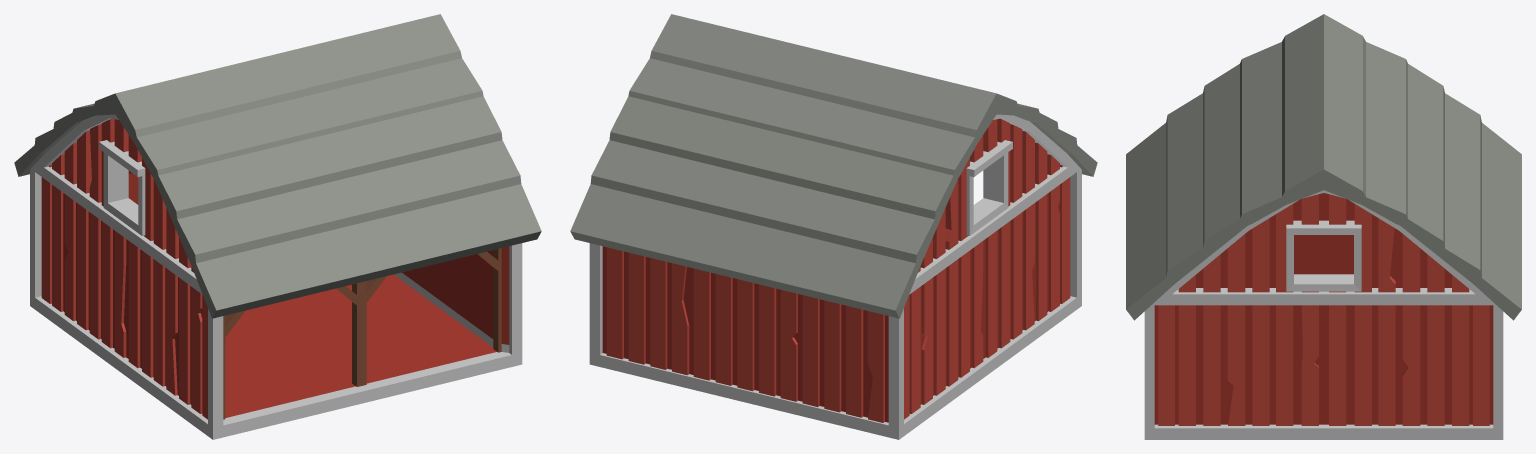
File: open-barn.glb
The picture shows the model from 3 angles, left to right: view 1: azimuth 30°, elevation 25°; view 2: azimuth 150°, elevation 25°; view 3: azimuth 270°, elevation 25°; orthographic projection. The views are drawn at different scales.
Visible parts, largest first — view 1: OpenBarn; view 2: OpenBarn; view 3: OpenBarn.
Part boxes in pixels (x1,y1,x2,y2): OpenBarn: (14,14,541,439); OpenBarn: (570,14,1097,439); OpenBarn: (1126,14,1521,439).
Bounding box in the file's own units: 5.74 × 4.74 × 6.18.
